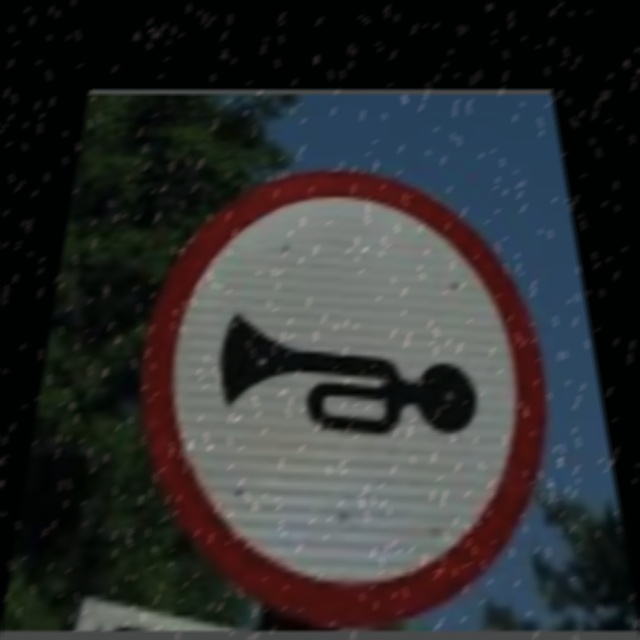Compulsory_Sound_Horn: (131, 177, 555, 582)
